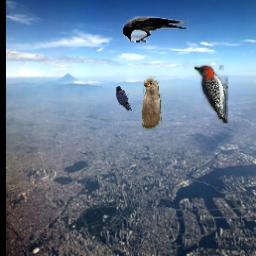Crow: (122, 17, 189, 44), (116, 87, 132, 112)
Sparrow: (142, 78, 162, 140)
Woodpecker: (194, 66, 228, 124)
